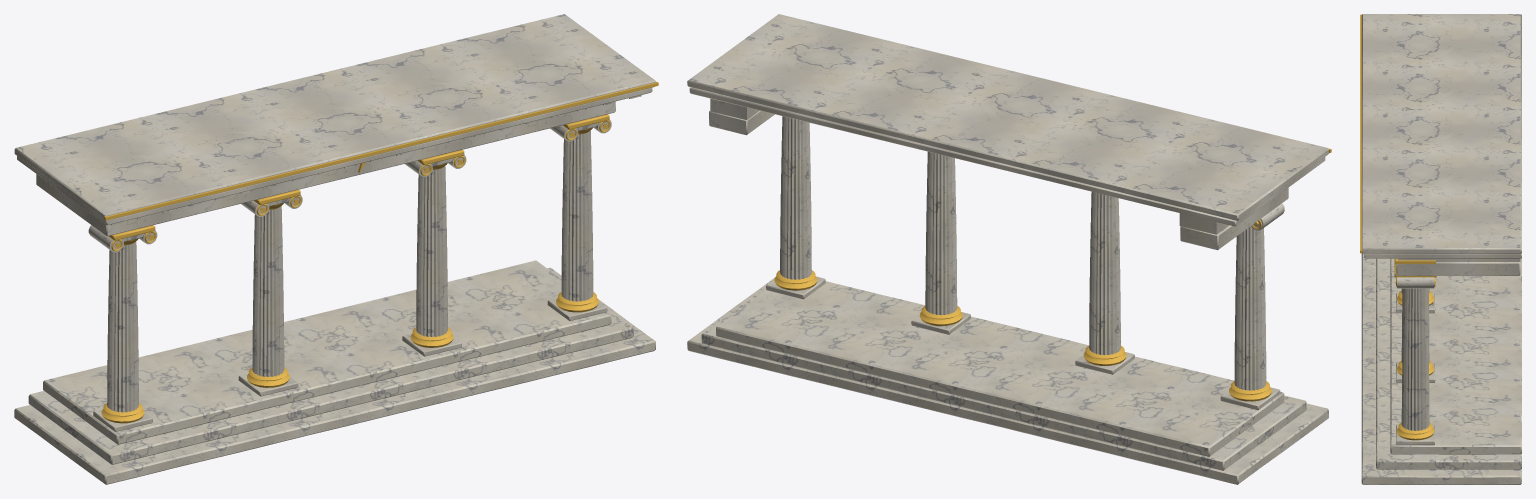
The model's file is home_villa-porch_t3_ionic.glb.
3 renders of one model, left to right at view 1: azimuth 30°, elevation 25°; view 2: azimuth 150°, elevation 25°; view 3: azimuth 270°, elevation 25°, orthographic. The views are drawn at different scales.
Visible parts, largest first — view 1: marble, step.003, gold; view 2: marble, step.003, gold; view 3: marble, step.003, gold.
Boxes of the visible parts, bbox=[...] form: marble: bbox=[14, 14, 655, 431]; step.003: bbox=[14, 260, 655, 484]; gold: bbox=[101, 81, 658, 423]; marble: bbox=[687, 14, 1328, 409]; step.003: bbox=[687, 278, 1328, 484]; gold: bbox=[774, 148, 1331, 401]; marble: bbox=[1361, 14, 1521, 445]; step.003: bbox=[1361, 253, 1521, 484]; gold: bbox=[1360, 14, 1436, 440].
Size of the model in its own units: 6.62 by 3.1 by 1.92.
3 materials, 2 textured.
